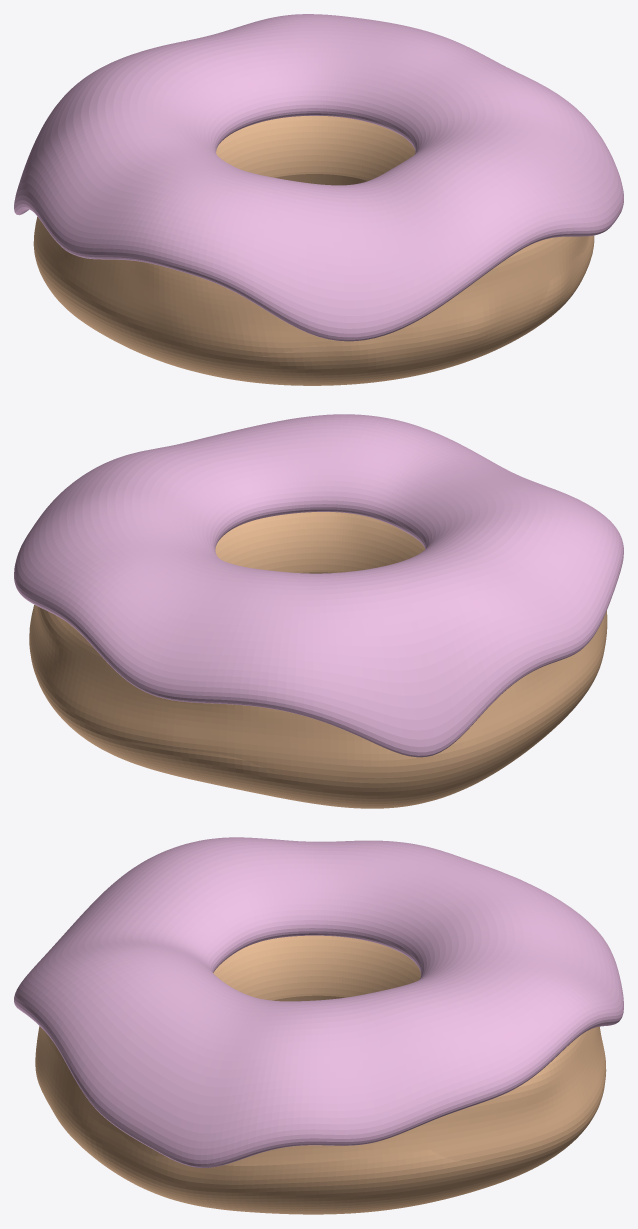
File: food_donut.fbx
3 views of the same model, one above another, from view 1: azimuth 30°, elevation 25°; view 2: azimuth 150°, elevation 25°; view 3: azimuth 270°, elevation 25° (orthographic). The views are drawn at different scales.
Parts seen in each view (by area): view 1: donut; view 2: donut; view 3: donut.
Part boxes in pixels (x1,y1,x2,y2): donut: [14, 14, 623, 385]; donut: [14, 414, 623, 808]; donut: [14, 837, 623, 1214].
Size of the model in its own units: 1.54 by 0.5849 by 1.53.
